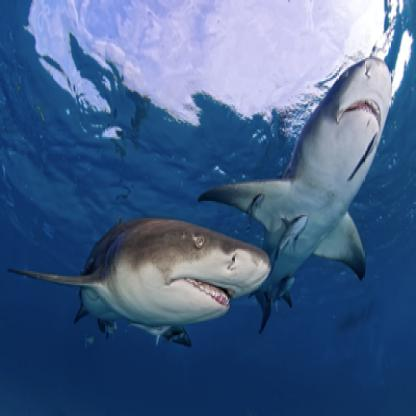shark: (199, 57, 397, 333), (8, 215, 270, 346)
